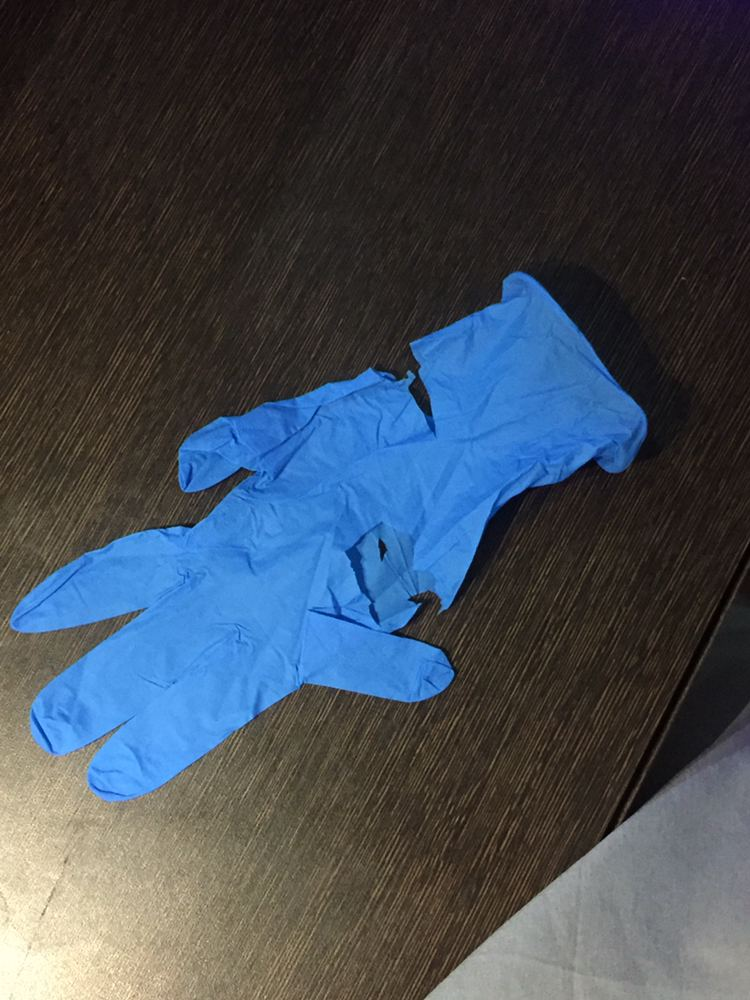defected: (38, 272, 680, 818)
